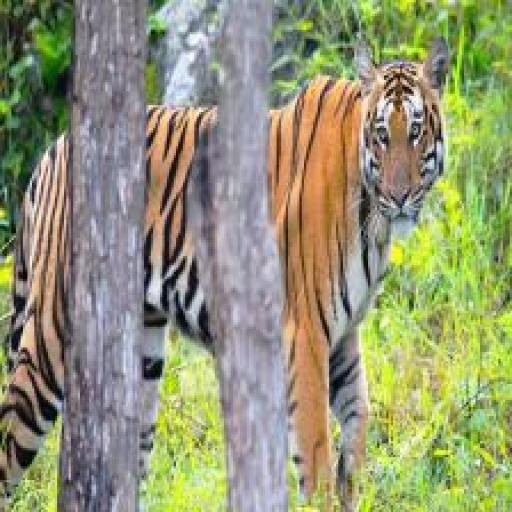Tiger: (0, 25, 458, 512)
